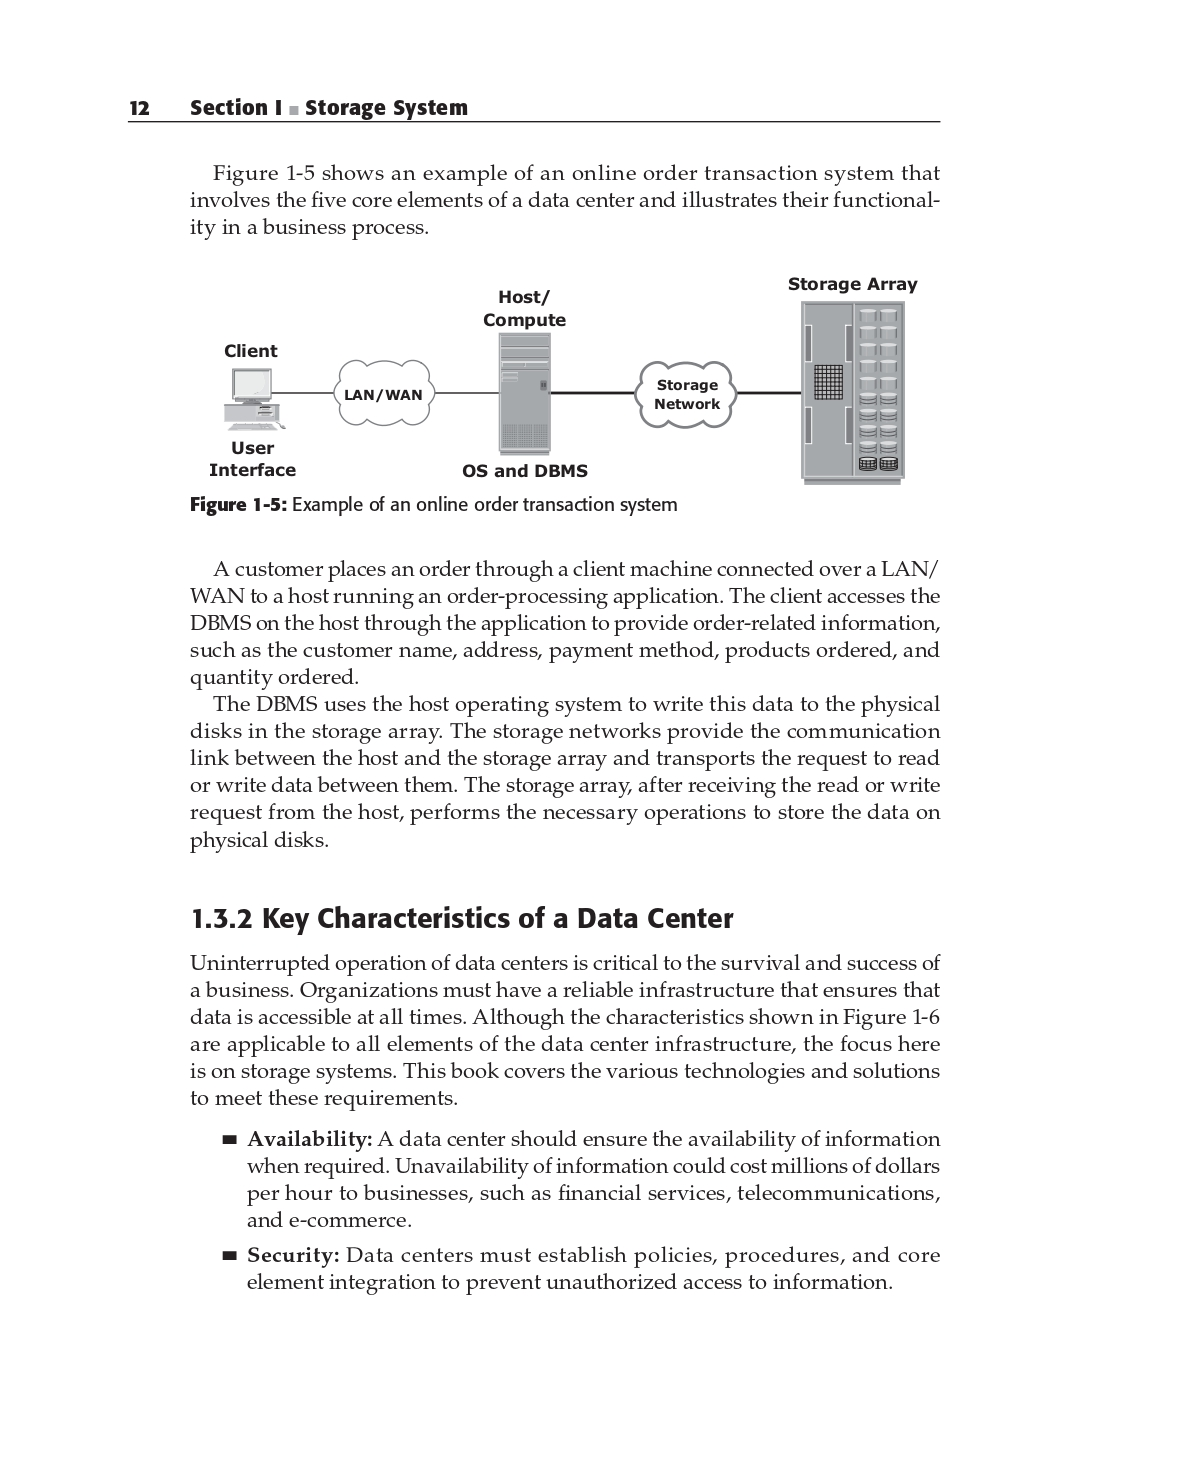Image: (176, 278, 929, 502)
Paragraph: (240, 1115, 947, 1308), (172, 690, 943, 856), (178, 941, 947, 1107), (176, 551, 943, 686), (178, 149, 943, 251), (178, 888, 742, 943), (97, 87, 482, 122)
